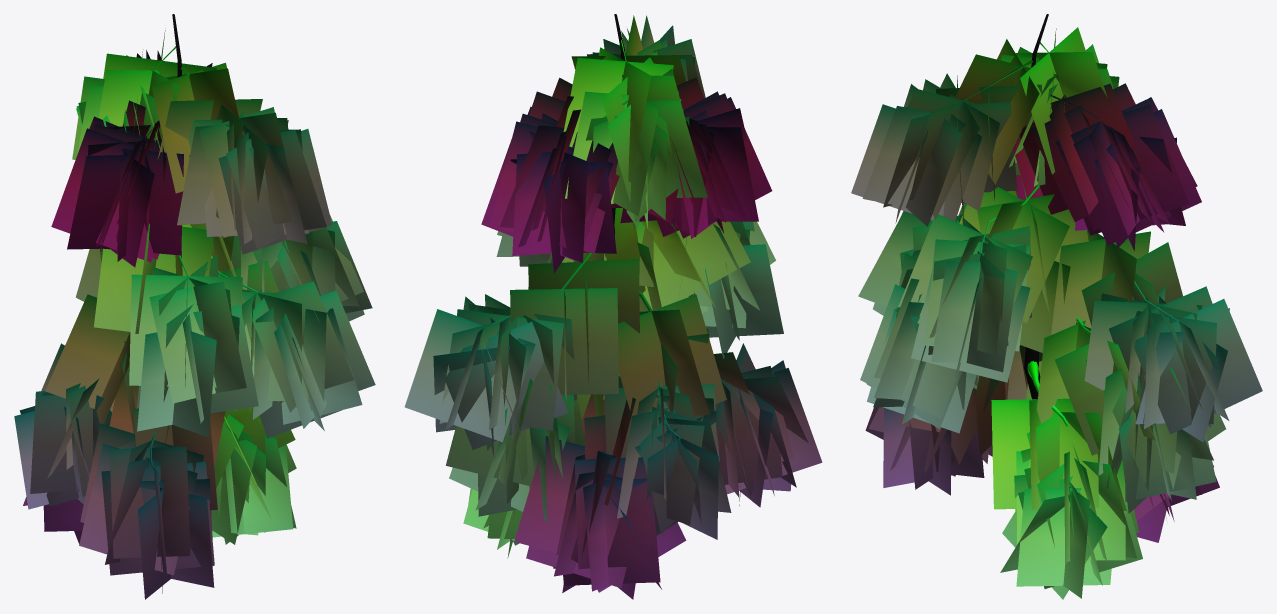
The model's file is URP_P13_Tree_9_LOD_1.fbx.
3 renders of one model, left to right at view 1: azimuth 30°, elevation 25°; view 2: azimuth 150°, elevation 25°; view 3: azimuth 270°, elevation 25°, orthographic.
Visible parts, largest first — view 1: Tree_9_LOD_1; view 2: Tree_9_LOD_1; view 3: Tree_9_LOD_1.
Part boxes in pixels (x1=…): Tree_9_LOD_1: x1=14, y1=14, x2=375, y2=599; Tree_9_LOD_1: x1=404, y1=14, x2=822, y2=599; Tree_9_LOD_1: x1=851, y1=14, x2=1262, y2=599.
Bounding box in the file's own units: 331 × 622 × 424.
